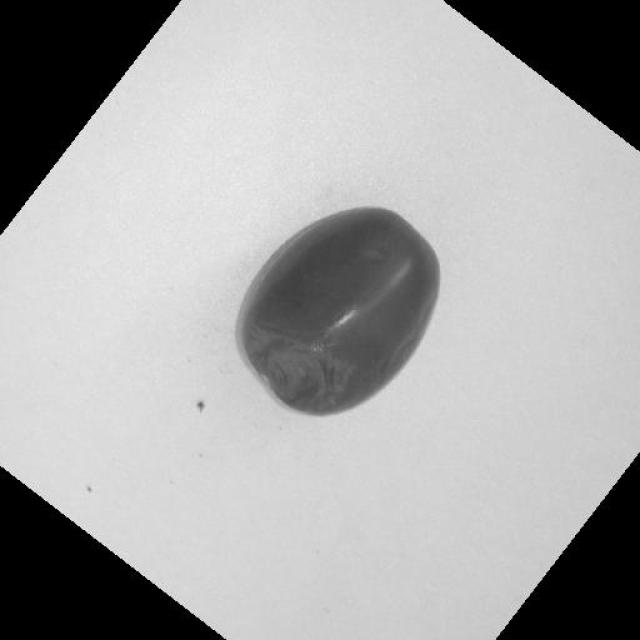Stale_tomato: (235, 193, 445, 424)
